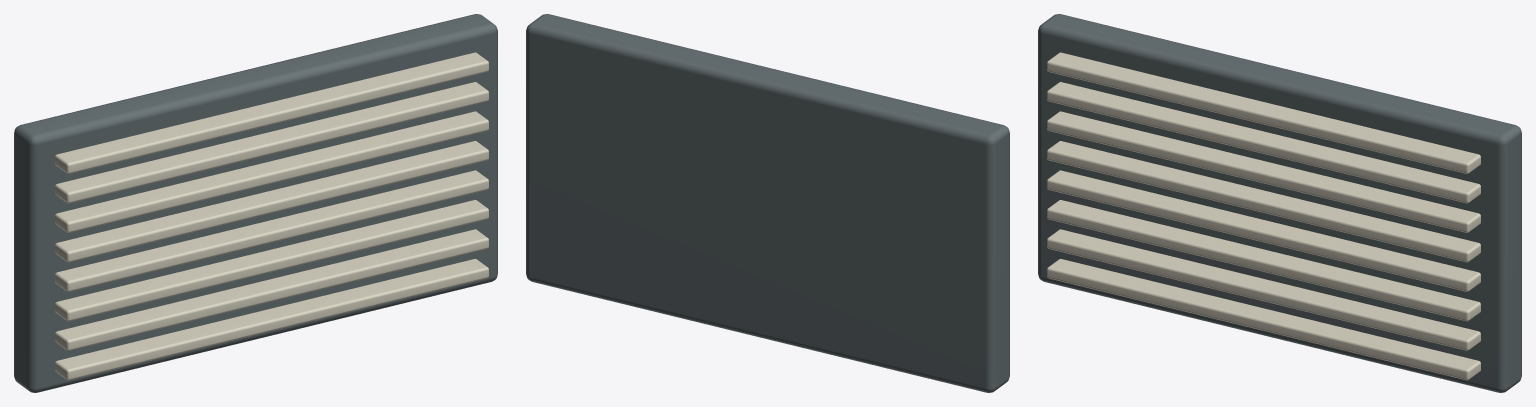
The model's file is WallVent.fbx.
3 renders of one model, left to right at view 1: azimuth 30°, elevation 25°; view 2: azimuth 150°, elevation 25°; view 3: azimuth 330°, elevation 25°, orthographic.
Visible parts, largest first — view 1: Vent frame, Vent blade.001, Vent blade.003, Vent blade.004, Vent blade.007, Vent blade.002, Vent blade.006, Vent blade, Vent blade.005; view 2: Vent frame; view 3: Vent frame, Vent blade.001, Vent blade.003, Vent blade.004, Vent blade.007, Vent blade.002, Vent blade.006, Vent blade, Vent blade.005.
Part boxes in pixels (x1,y1,x2,y2): Vent frame: (14,14,497,392); Vent blade.001: (55,229,488,350); Vent blade.003: (55,170,488,291); Vent blade.004: (55,141,488,262); Vent blade.007: (55,52,488,173); Vent blade.002: (55,200,488,321); Vent blade.006: (55,82,488,203); Vent blade: (55,259,488,380); Vent blade.005: (55,111,488,232); Vent frame: (526,14,1009,392); Vent frame: (1038,14,1521,392); Vent blade.001: (1047,229,1480,350); Vent blade.003: (1047,170,1480,291); Vent blade.004: (1047,141,1480,262); Vent blade.007: (1047,52,1480,173); Vent blade.002: (1047,200,1480,321); Vent blade.006: (1047,82,1480,203); Vent blade: (1047,259,1480,380); Vent blade.005: (1047,111,1480,232).
Size of the model in its own units: 80 by 42 by 9.75.
